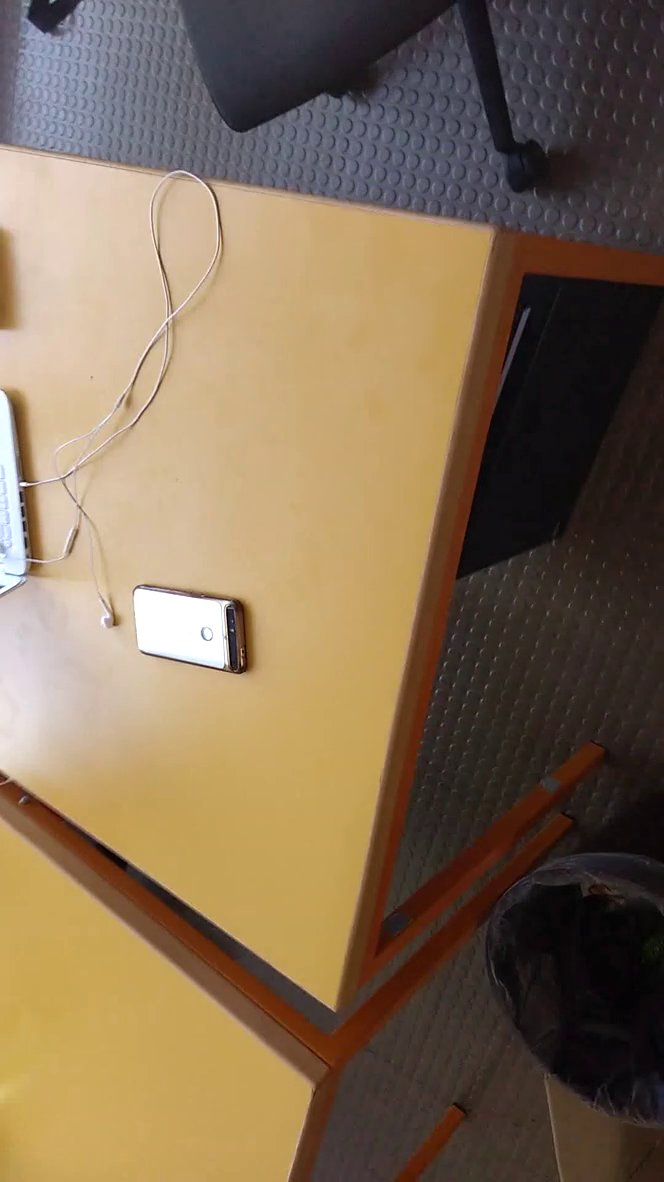phone: (125, 574, 277, 690)
